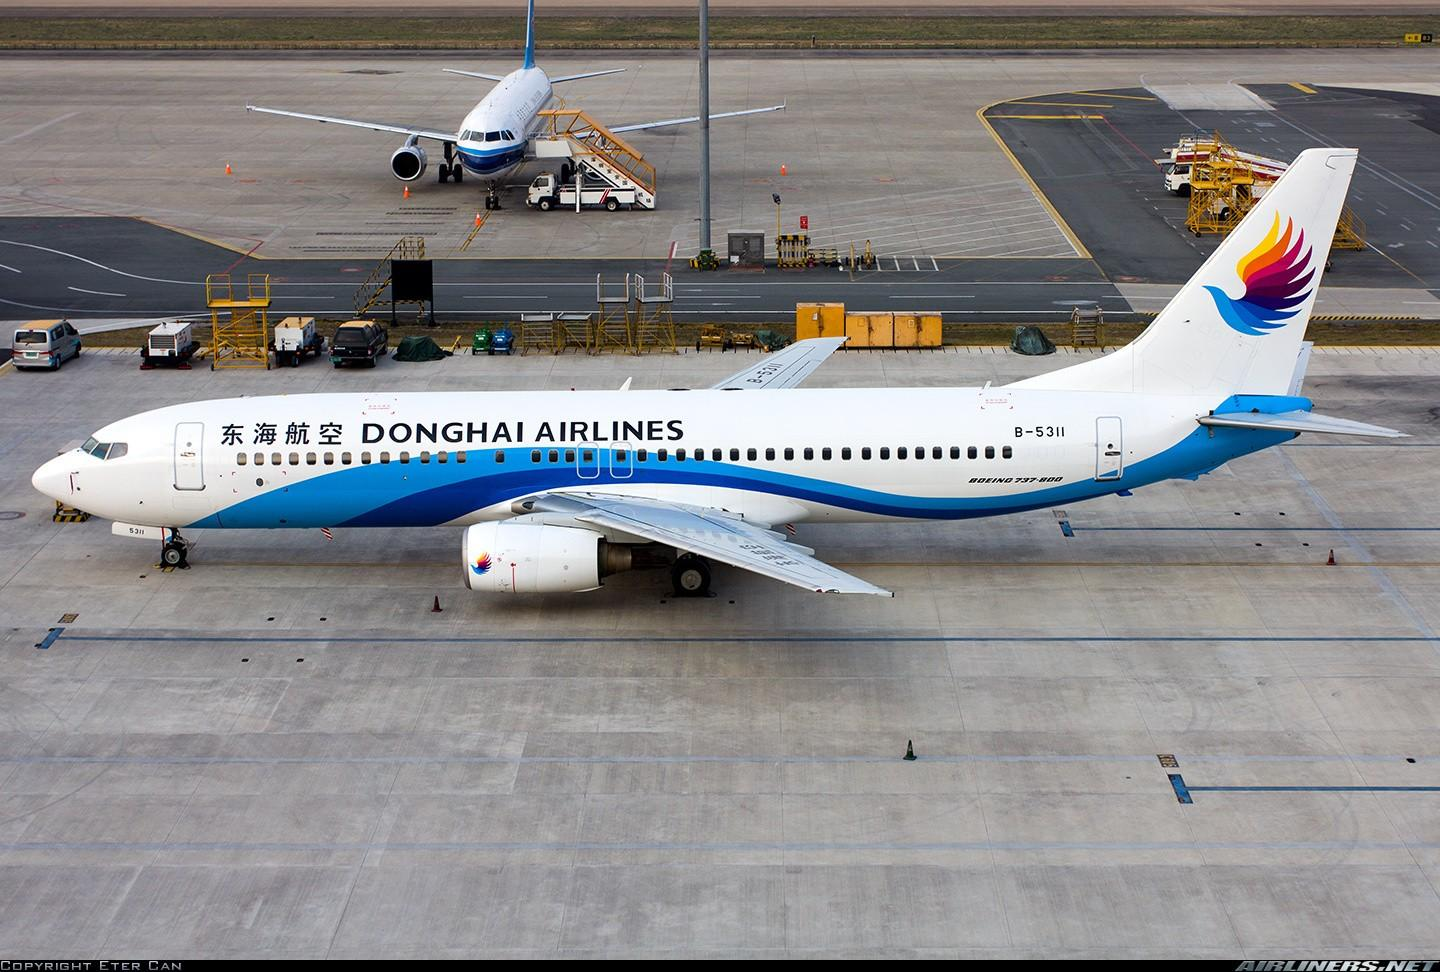airplane: (30, 145, 1390, 603), (237, 2, 788, 171)
